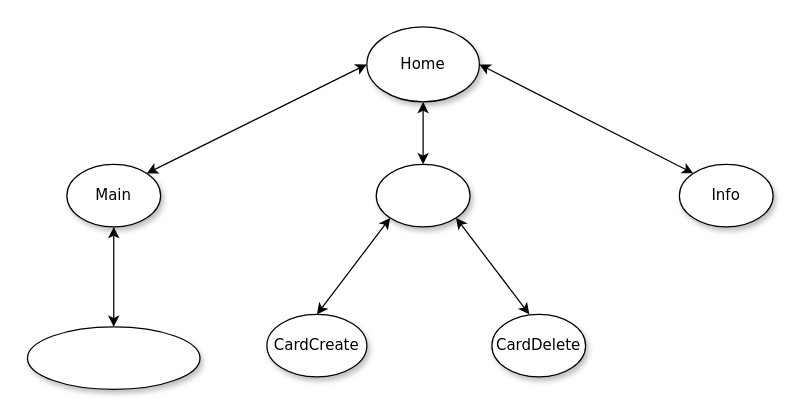
This 803x420 diagram has some shape labels left out. Here are the shapes that lost their labels. From the top down, the centre of each, then its label:
At [424,197]: "Options".
At [114,359]: "SelectSymbolModal".
